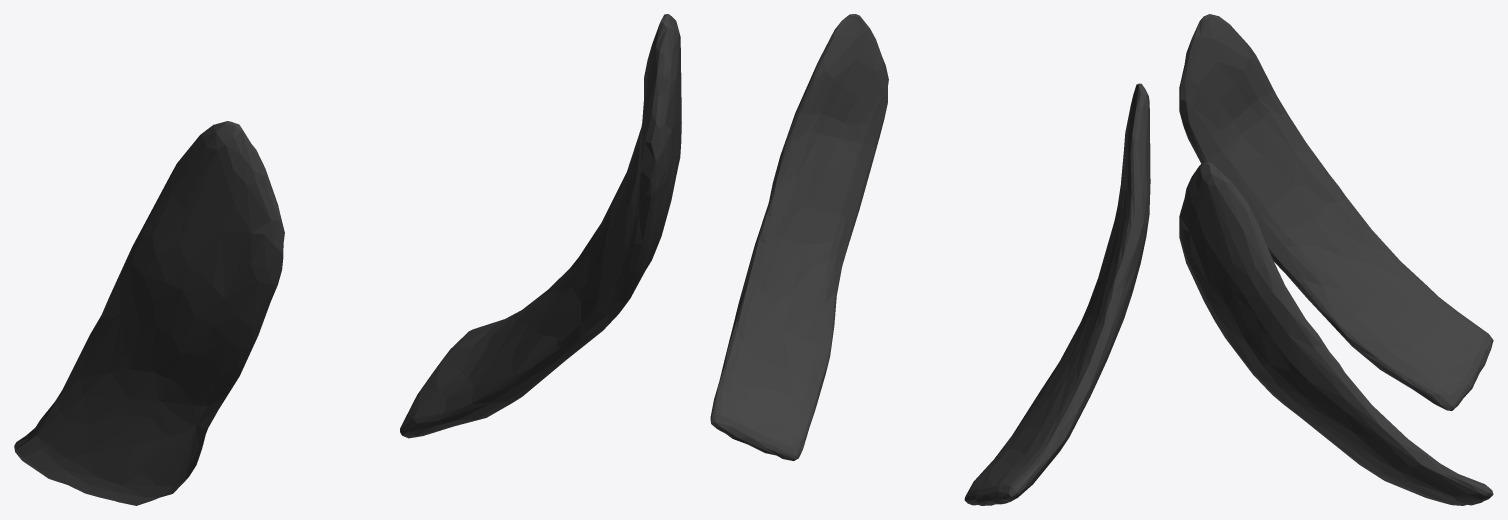
Rendered from m_rectus_thoracis.glb.
3 views of the same model, side by side, from view 1: azimuth 30°, elevation 25°; view 2: azimuth 150°, elevation 25°; view 3: azimuth 270°, elevation 25° (orthographic). The views are drawn at different scales.
Parts seen in each view (by area): view 1: m_rectus_thoracis; view 2: m_rectus_thoracis; view 3: m_rectus_thoracis.
Boxes of the visible parts, x1=… form: m_rectus_thoracis: x1=14, y1=14, x2=681, y2=505; m_rectus_thoracis: x1=710, y1=14, x2=1150, y2=505; m_rectus_thoracis: x1=1179, y1=14, x2=1493, y2=505.
Size of the model in its own units: 0.00336 by 0.00313 by 0.00243.
Materials: 1 (1 with a texture image).
